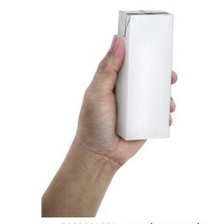carton: (103, 5, 178, 149)
